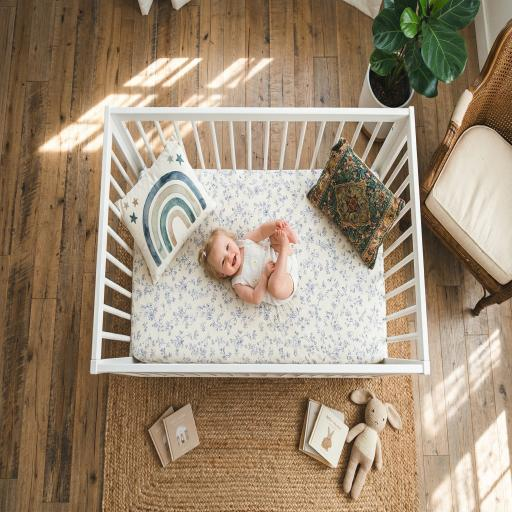baby: (199, 220, 298, 305)
crib: (108, 130, 418, 364)
